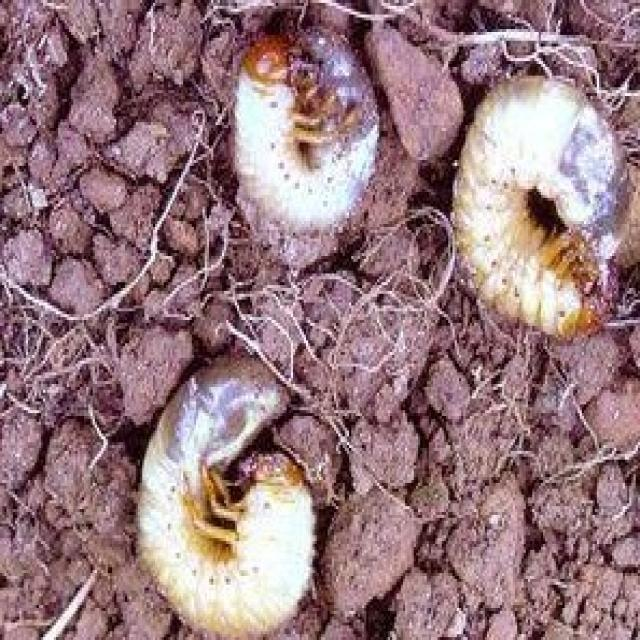grub: (134, 349, 321, 631), (456, 78, 624, 355), (225, 34, 385, 241)
